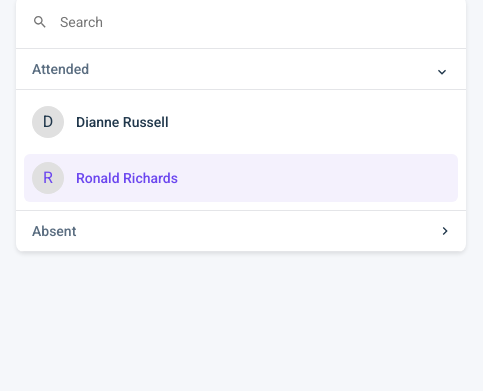
Test case: List Component › Base functionality › toggles section collapse on click
expect the text "Jenny Wilson" is not shown: met
Click the heading "Absent".
click(54, 231)  # box [32, 223, 76, 239]
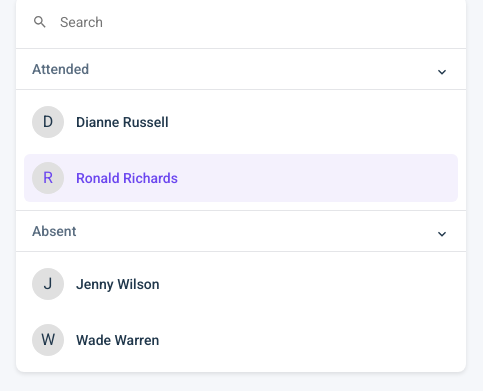
expect the text "Jenny Wilson" is shown: met, box [76, 276, 160, 292]
expect the text "Wade Warren" is shown: met, box [76, 332, 159, 348]
